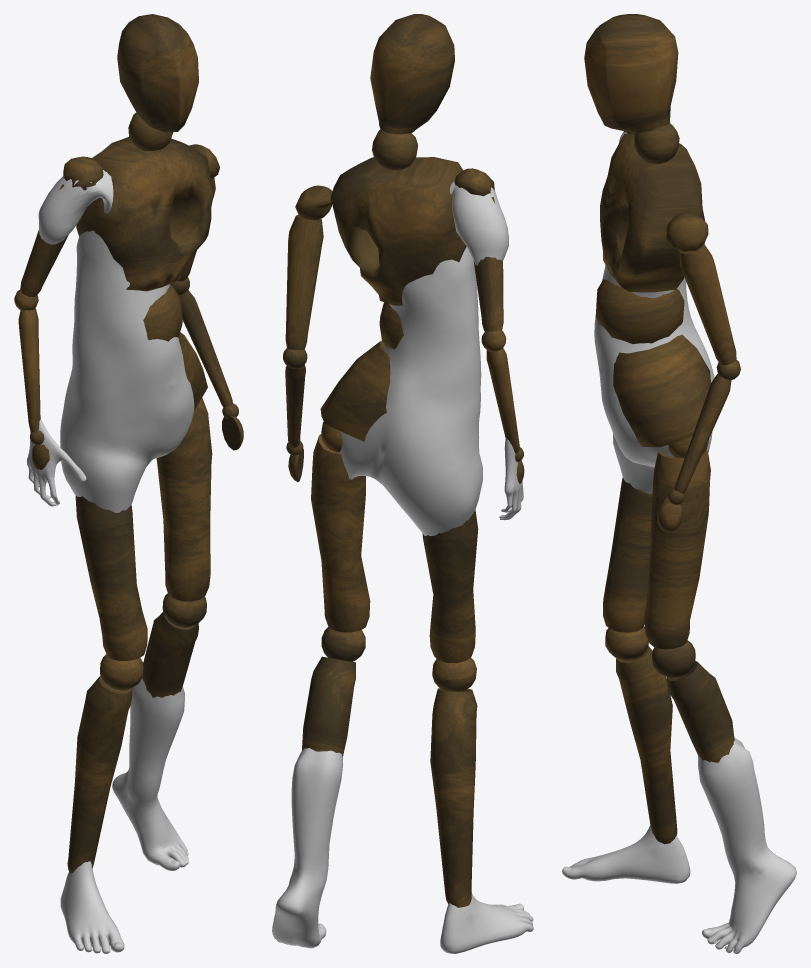
Rendered from enemigo1_pose1.fbx.
3 views of the same model, side by side, from view 1: azimuth 30°, elevation 25°; view 2: azimuth 150°, elevation 25°; view 3: azimuth 270°, elevation 25° (orthographic).
Parts seen in each view (by area): view 1: dummy_obj.003, Body.004; view 2: dummy_obj.003, Body.004; view 3: dummy_obj.003, Body.004.
Boxes of the visible parts, x1=… form: dummy_obj.003: x1=14, y1=14, x2=243, y2=873; Body.004: x1=26, y1=170, x2=194, y2=953; dummy_obj.003: x1=283, y1=14, x2=524, y2=907; Body.004: x1=272, y1=181, x2=533, y2=953; dummy_obj.003: x1=584, y1=14, x2=740, y2=844; Body.004: x1=562, y1=132, x2=796, y2=953.
Bounding box in the file's own units: 45.63 × 177 × 41.97.
